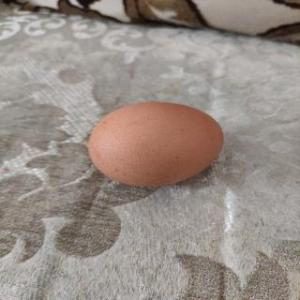egg: (84, 100, 228, 188)
